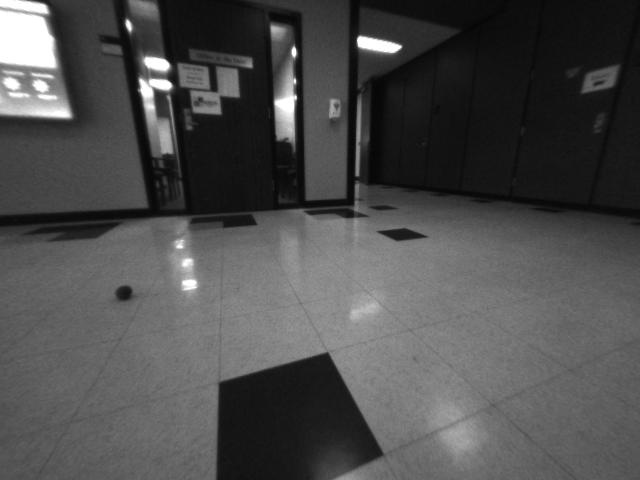dogtoy: (105, 276, 143, 306)
